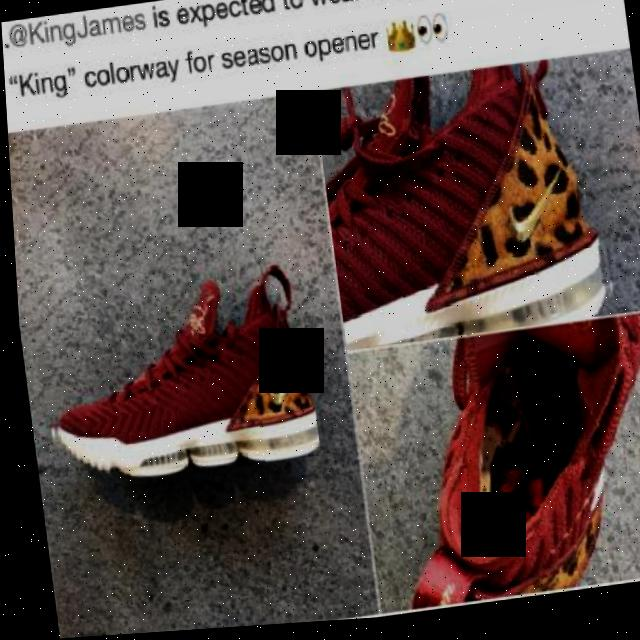shoe: (311, 64, 617, 356), (26, 267, 316, 492)
